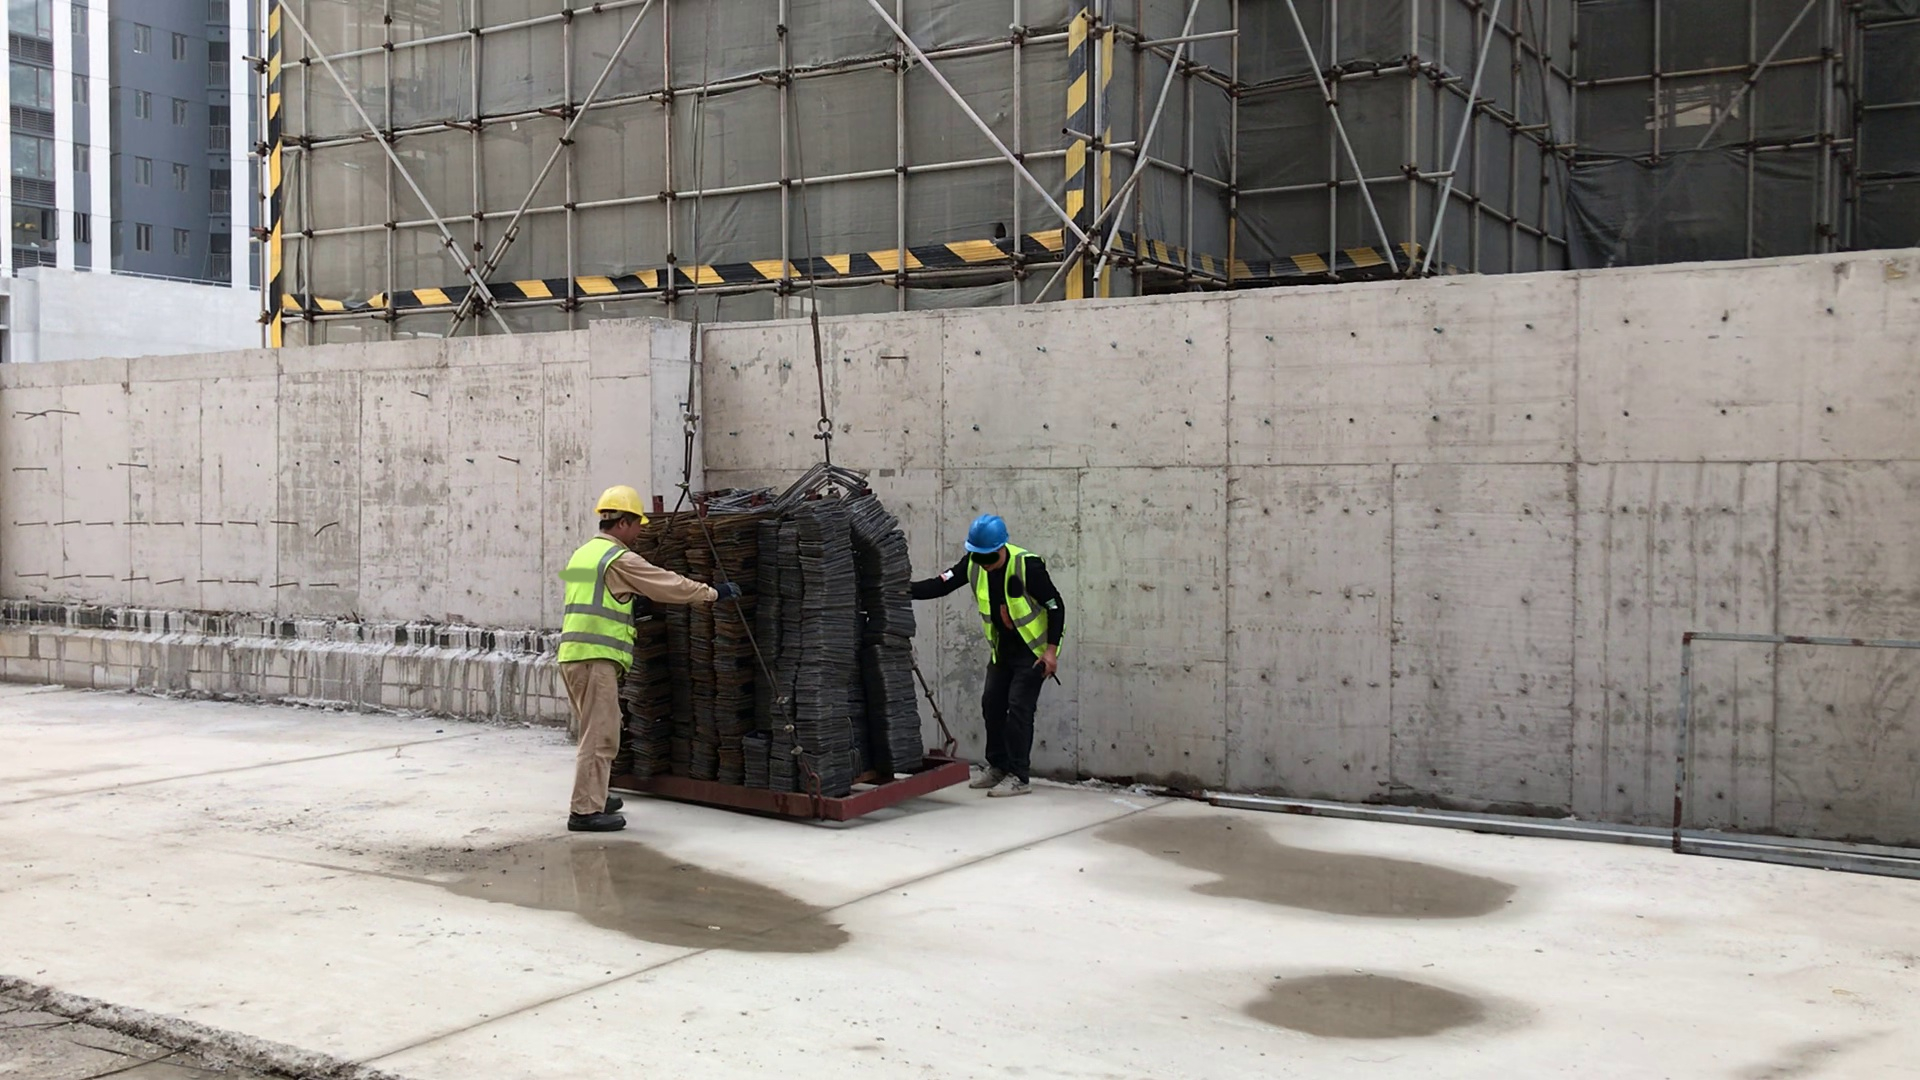helmet: (961, 503, 1015, 559), (597, 474, 649, 521)
person: (920, 521, 1110, 806), (548, 488, 676, 821)
vest: (558, 534, 642, 667), (956, 557, 1064, 656)
